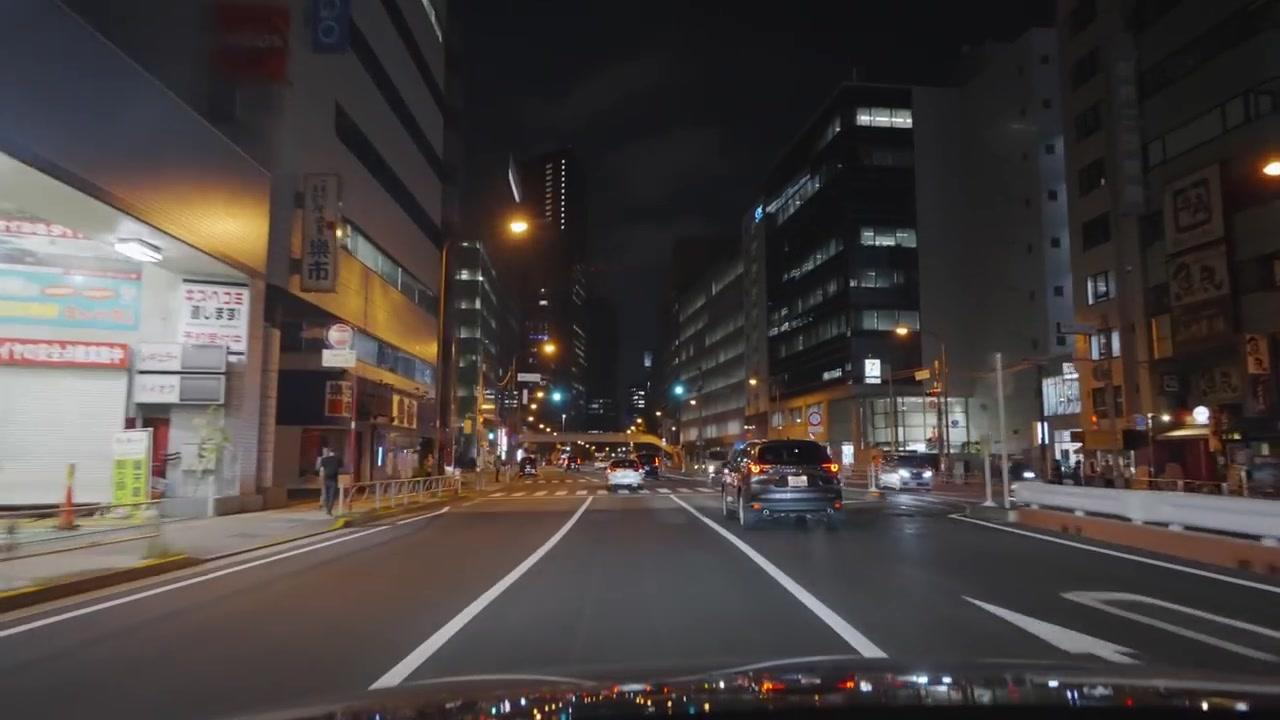car: (721, 438, 845, 531), (879, 458, 934, 492), (1244, 460, 1280, 498), (607, 465, 646, 494)
person: (315, 444, 343, 516)
potted plant: (188, 401, 234, 518)
traffic light: (547, 384, 567, 411), (671, 378, 687, 403)
